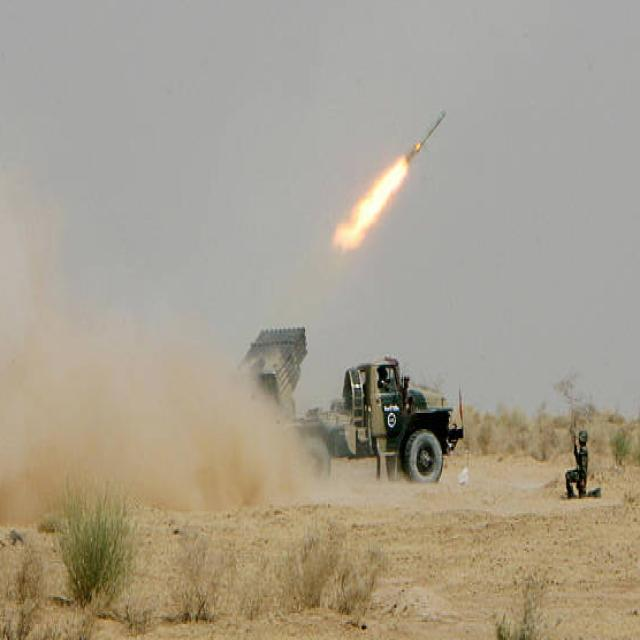soldier: (565, 425, 600, 500)
